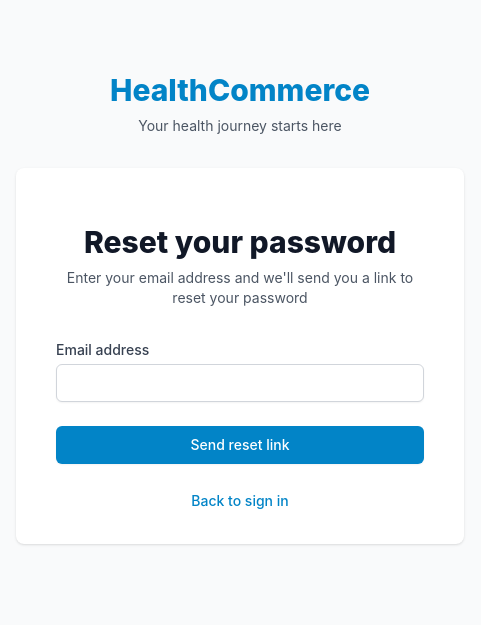
Test: Forgot Password Functionality › should navigate back to login page
Click the link with test id "back-to-login".
click(240, 501)  # box [191,492,289,509]
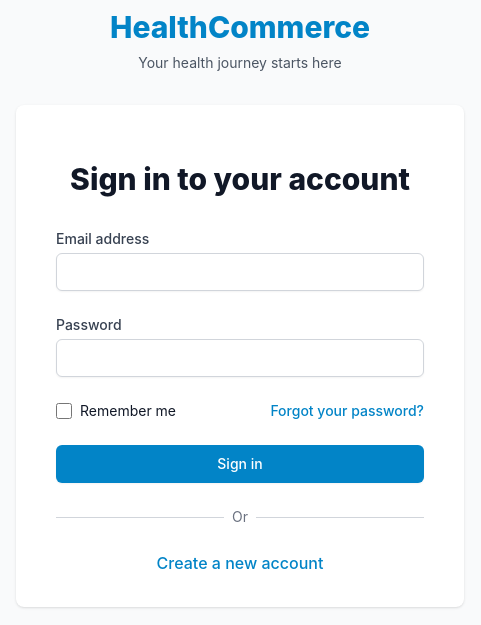
Check: the element with test id "login-page" is shown, box [56,161,424,575]
